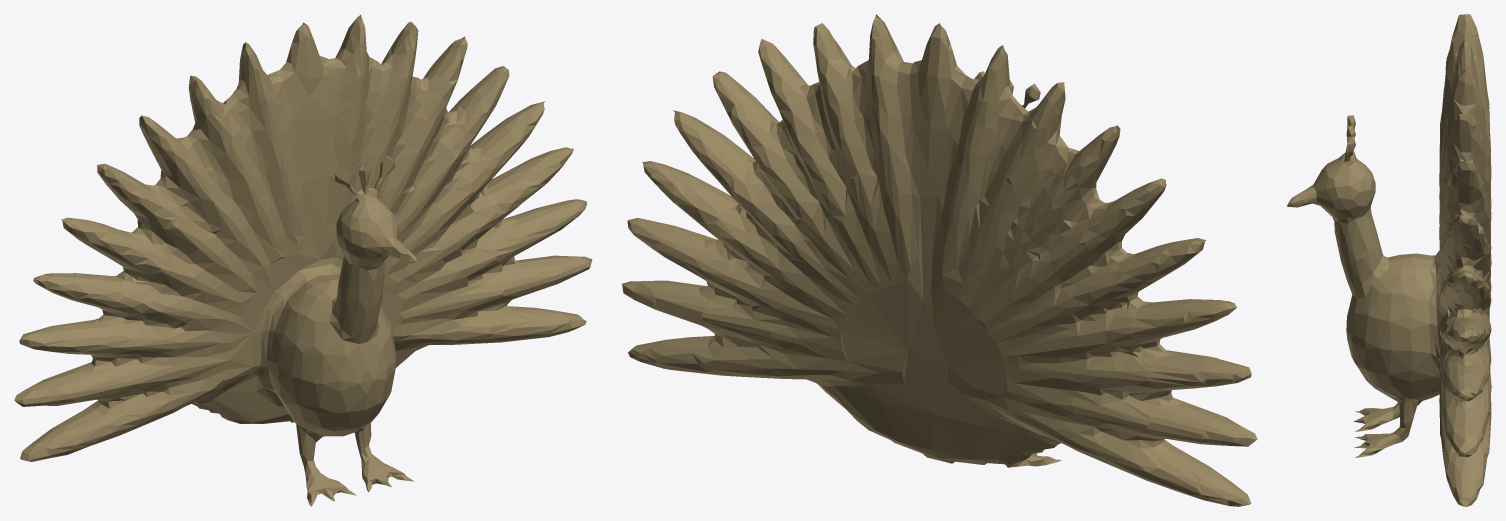
Rendered from NEW_RECOVERY_011_LOD0.glb.
The picture shows the model from 3 angles, left to right: view 1: azimuth 30°, elevation 25°; view 2: azimuth 150°, elevation 25°; view 3: azimuth 270°, elevation 25°; orthographic projection. The views are drawn at different scales.
Visible parts, largest first — view 1: Peacock_solid_original; view 2: Peacock_solid_original; view 3: Peacock_solid_original.
Boxes of the visible parts, <box> form: Peacock_solid_original: <box>14,14,592,506</box>; Peacock_solid_original: <box>621,14,1257,506</box>; Peacock_solid_original: <box>1286,14,1491,506</box>.
Bounding box in the file's own units: 4.5 × 3.19 × 1.49.
